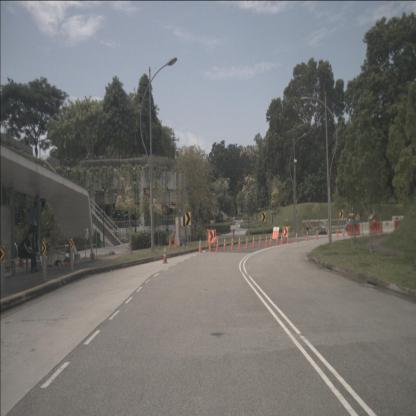barrier: (381, 220, 395, 233), (392, 215, 404, 230), (347, 223, 360, 236), (370, 221, 383, 234), (359, 221, 371, 235), (394, 220, 406, 233)
cone: (5, 250, 13, 271), (161, 244, 169, 264), (18, 247, 24, 268), (222, 237, 228, 251), (215, 236, 220, 252), (230, 236, 235, 250), (251, 234, 256, 248), (237, 236, 242, 250), (208, 237, 212, 252), (173, 233, 177, 248), (198, 238, 202, 253), (245, 235, 249, 249), (258, 234, 262, 248), (168, 234, 172, 248), (264, 235, 268, 248), (280, 233, 284, 245), (269, 235, 273, 246), (286, 233, 290, 244), (275, 234, 279, 245), (326, 228, 330, 238), (306, 230, 309, 241), (295, 232, 298, 243), (342, 226, 345, 236), (315, 229, 318, 239), (336, 227, 339, 237)
